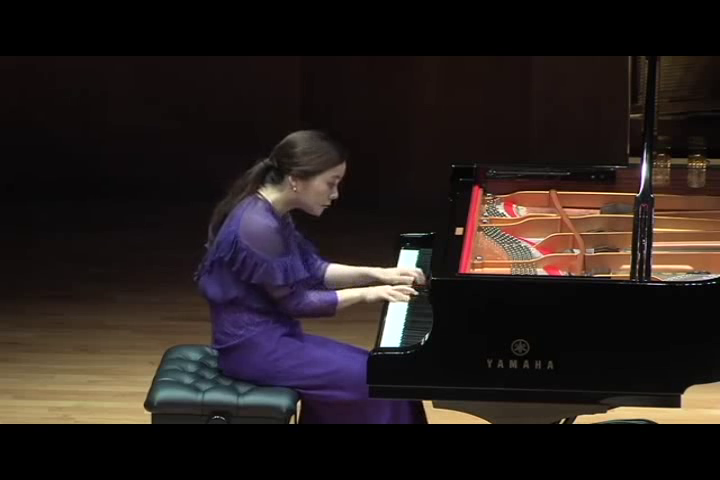keyboard: (374, 238, 444, 359)
